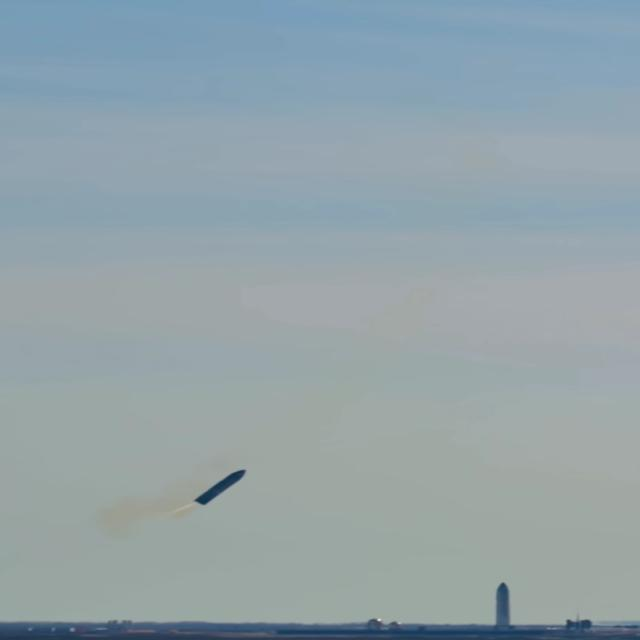missile: (191, 466, 251, 510), (492, 579, 514, 628)
